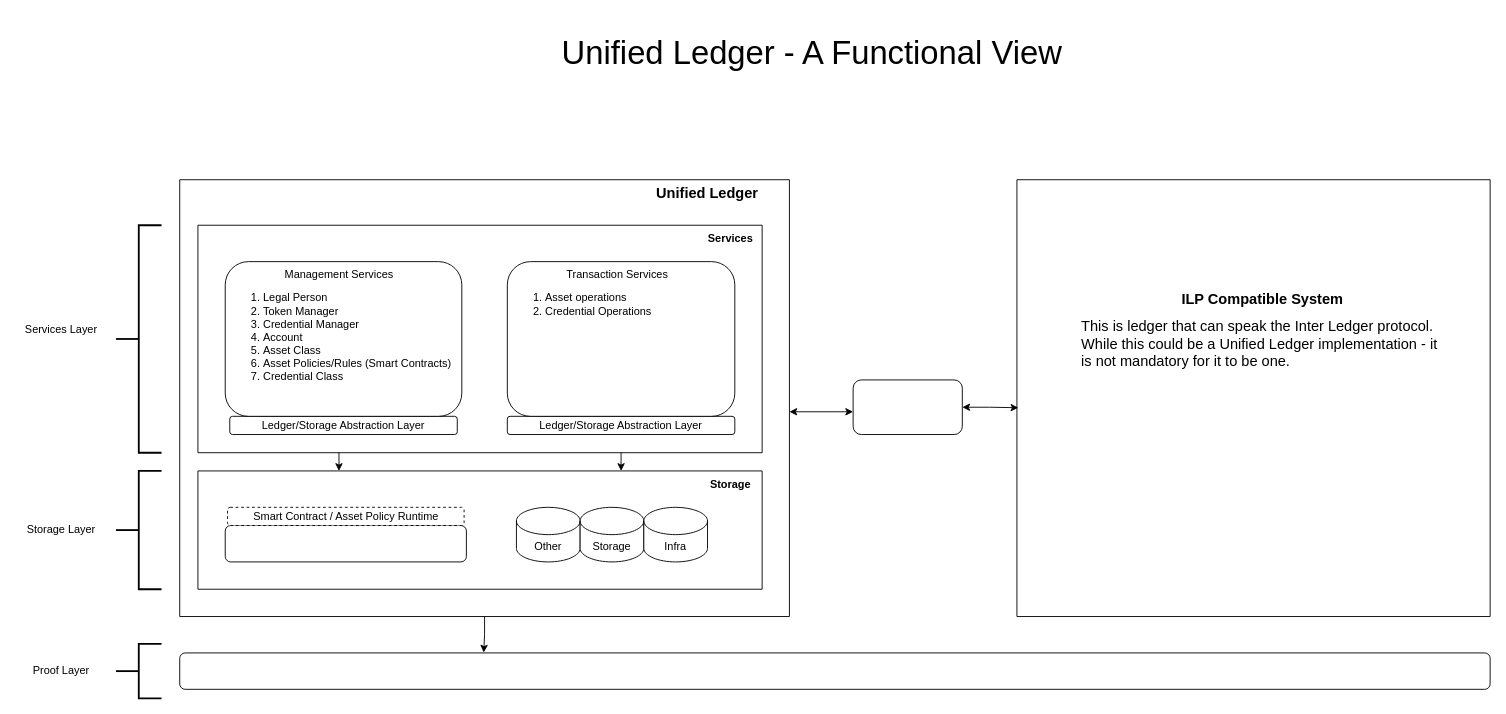
This 1506x714 diagram has some shape labels left out. Each missing label, with the centre of its shape:
Immutable Proof Store (IPS): (x=834, y=670)
Immutable Transaction Ledger (Solana / Eth): (x=345, y=543)
Inter Ledger Protocol (ILP): (x=907, y=407)
